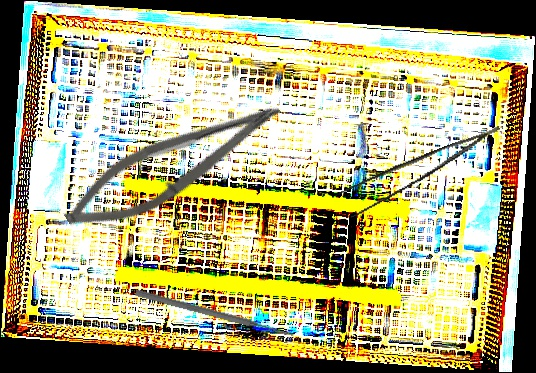Micro Scissor: (53, 74, 292, 253)
Pusher: (134, 287, 296, 341)
Tissue Forceps: (332, 125, 511, 221)
